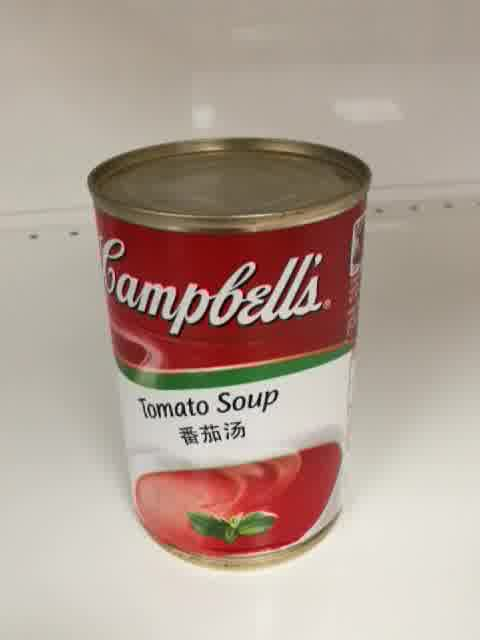tomatosoup: (86, 136, 372, 572)
